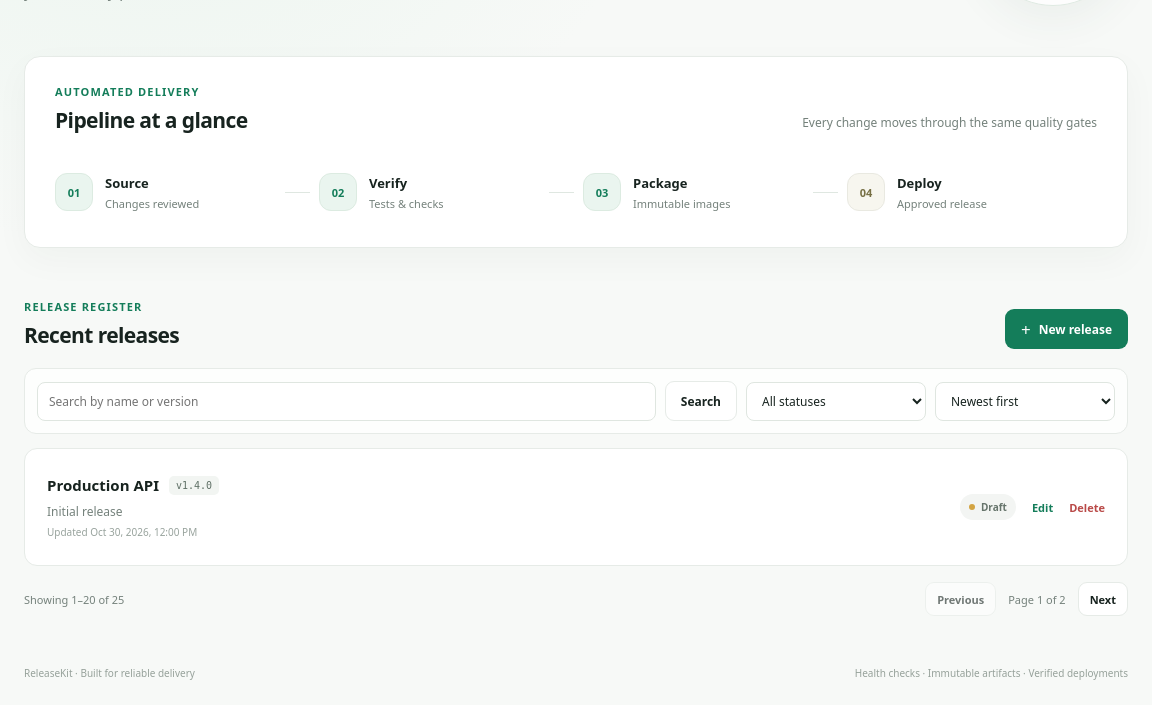
Test: release dashboard › returns to the first page after deleting the last result on a later page
This screenshot has width=1152, height=705.
(page scrolled)
Click the button "Next" at (1103,599), box [1078,582,1128,616]
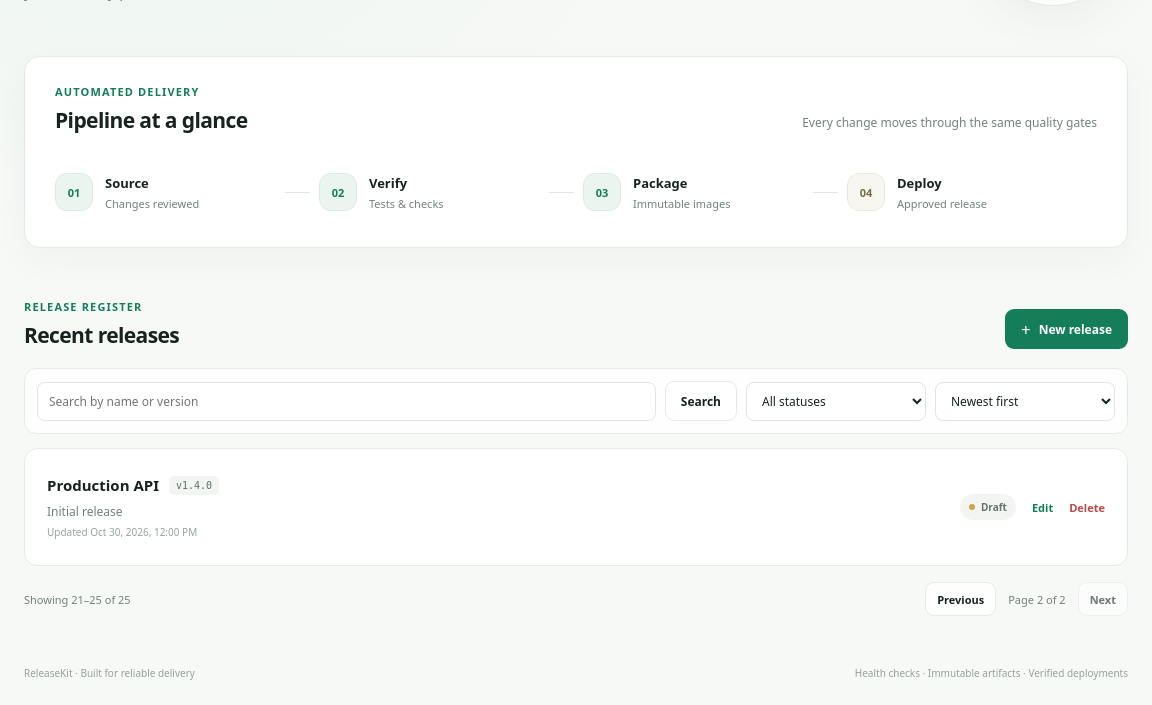
Click the button with aria-label "Delete Production API" at (1087,507), box [1069,494,1105,520]
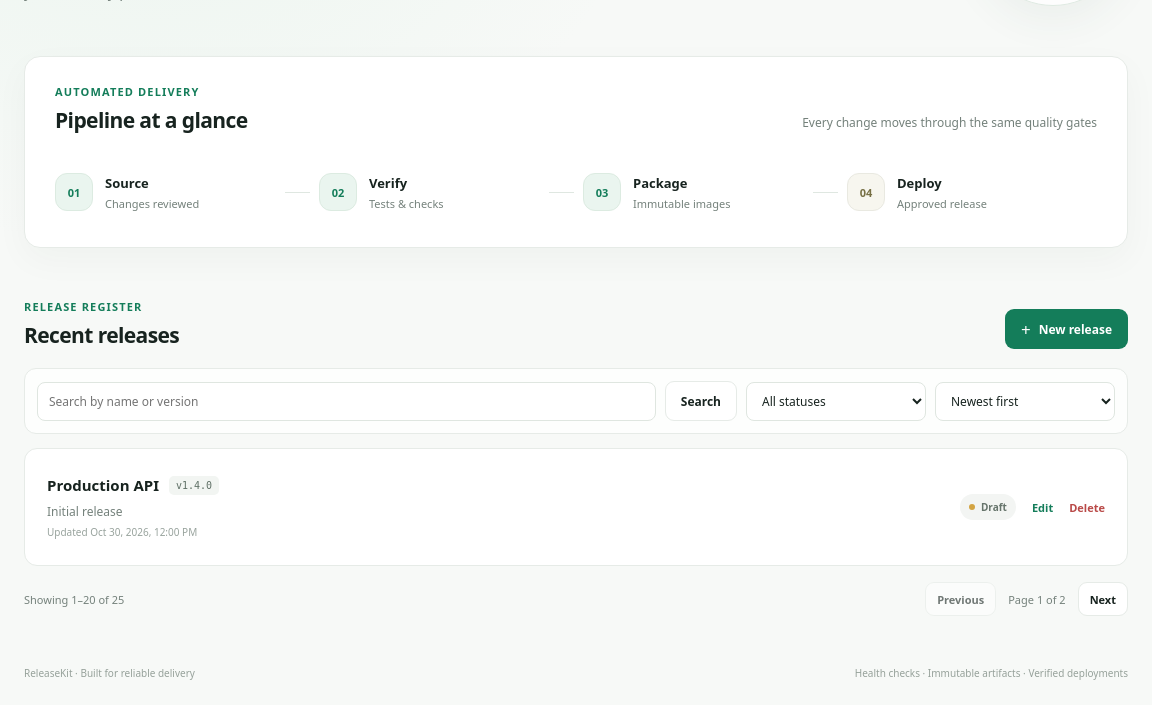
Expected: the text "Showing 1–20 of 25" is shown, [24,592,124,606]
